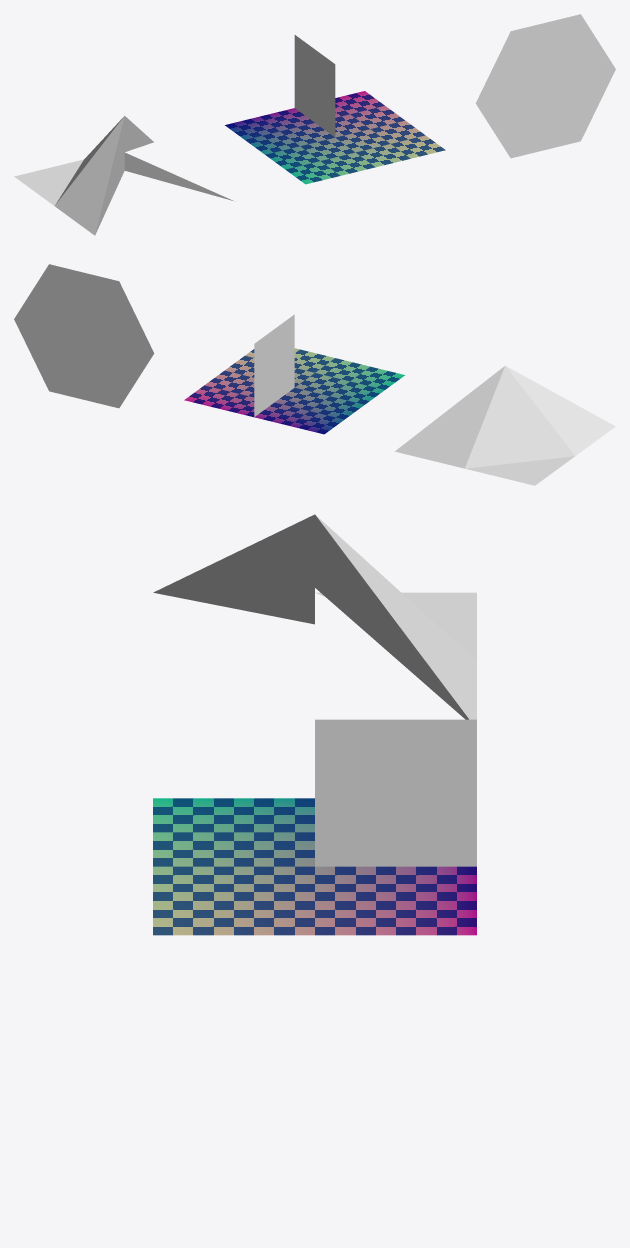
The picture shows the model from 3 angles, top to bottom: view 1: azimuth 30°, elevation 25°; view 2: azimuth 150°, elevation 25°; view 3: azimuth 270°, elevation 25°; orthographic projection. The views are drawn at different scales.
Parts seen in each view (by area): view 1: HexNode, GroundNode, BumpNode, QuadNode; view 2: BumpNode, HexNode, GroundNode, QuadNode; view 3: GroundNode, QuadNode, BumpNode.
Boxes of the visible parts, x1,y1,x2,y2 form: HexNode: (475, 14, 615, 158); GroundNode: (225, 91, 445, 184); BumpNode: (14, 116, 233, 235); QuadNode: (294, 35, 335, 137); BumpNode: (395, 365, 615, 485); HexNode: (14, 264, 154, 408); GroundNode: (184, 348, 404, 434); QuadNode: (254, 314, 294, 416); GroundNode: (153, 798, 476, 935); QuadNode: (315, 719, 476, 866); BumpNode: (153, 514, 476, 719).
Bounding box in the file's own units: 16 × 3.73 × 4.
2 materials, 1 textured.
